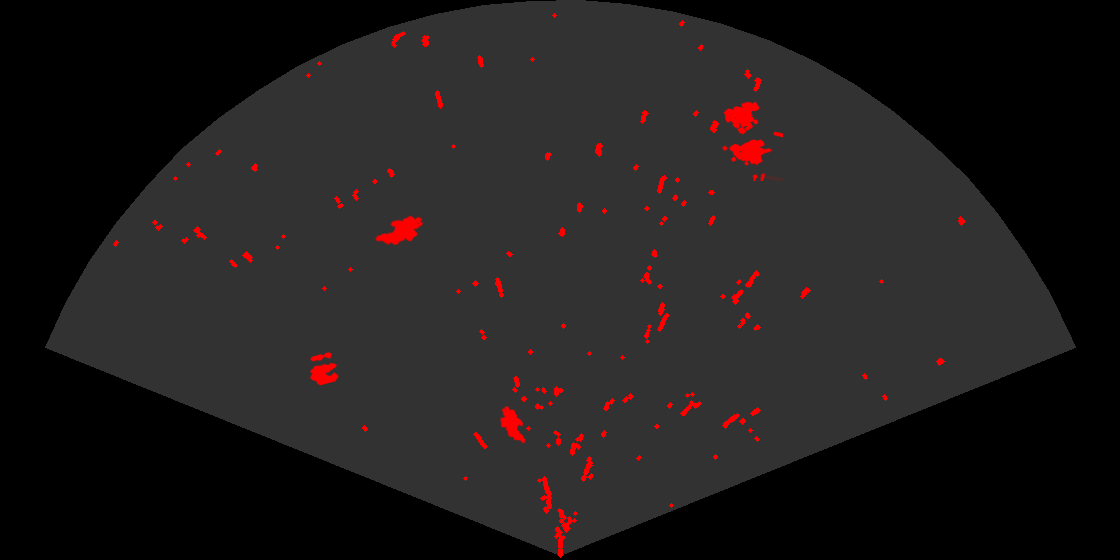AUV: (374, 214, 425, 247), (498, 404, 527, 445)
ball: (308, 351, 340, 387)
cage: (721, 100, 783, 181)
